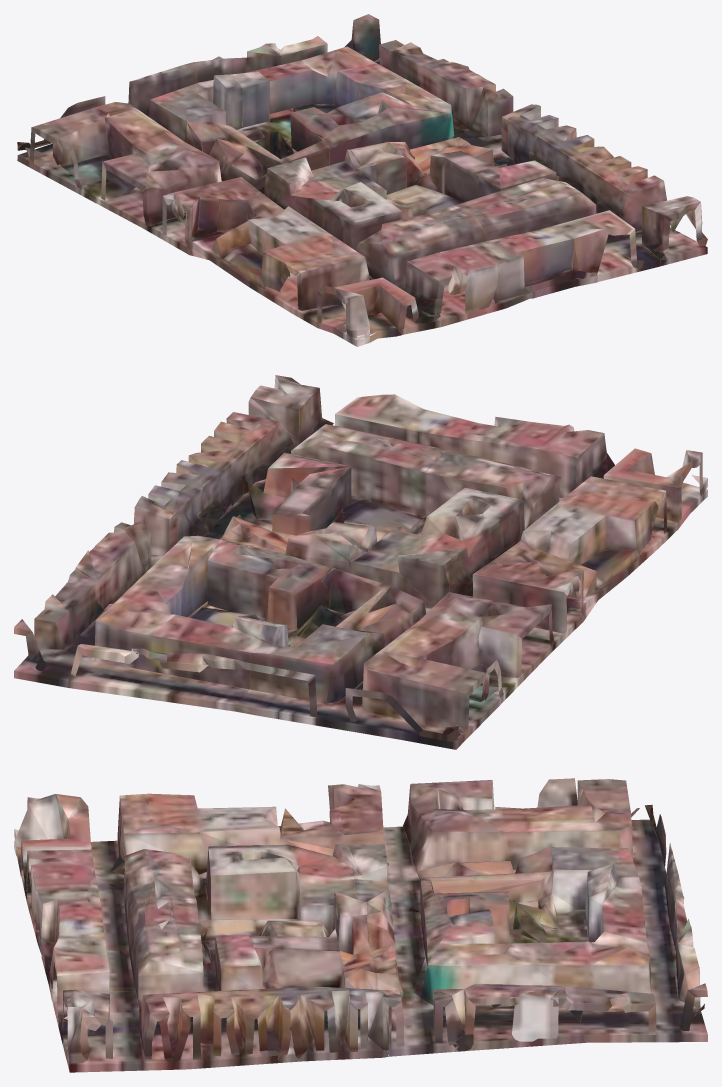
3 renders of one model, top to bottom at view 1: azimuth 30°, elevation 25°; view 2: azimuth 150°, elevation 25°; view 3: azimuth 270°, elevation 25°, orthographic. The views are drawn at different scales.
Visible parts, largest first — view 1: Mesh_0; view 2: Mesh_0; view 3: Mesh_0.
Boxes of the visible parts, bbox=[...] form: Mesh_0: bbox=[17, 14, 707, 346]; Mesh_0: bbox=[14, 375, 707, 749]; Mesh_0: bbox=[14, 778, 707, 1072].
Size of the model in its own units: 269 by 38.51 by 330.
Materials: 1 (1 with a texture image).
